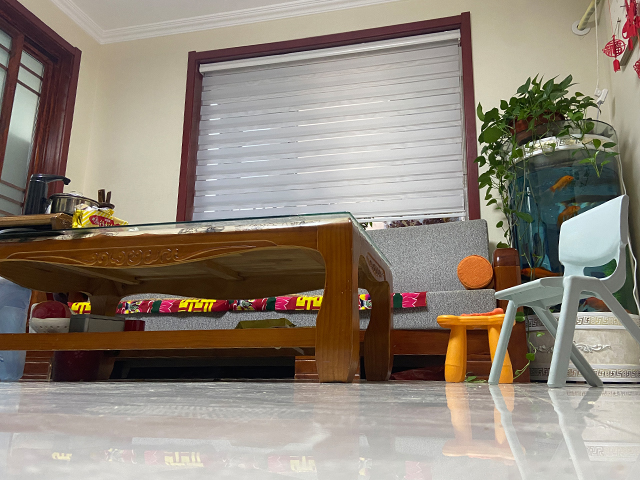sofa: (58, 218, 532, 385)
stool: (485, 193, 640, 390), (434, 312, 517, 386)
table: (1, 210, 396, 384)
